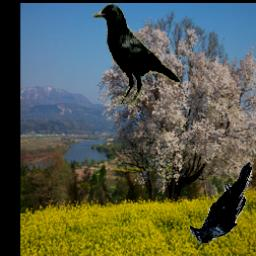Crow: (91, 3, 180, 105), (190, 162, 253, 243)
